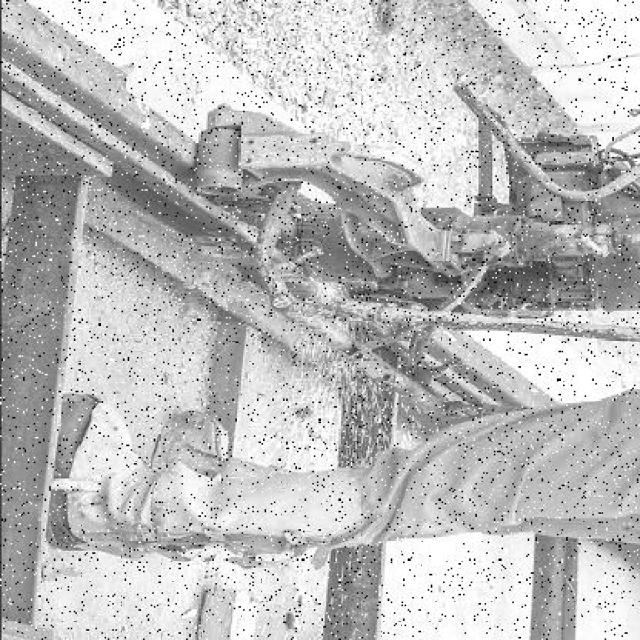shoes: (42, 424, 349, 561)
